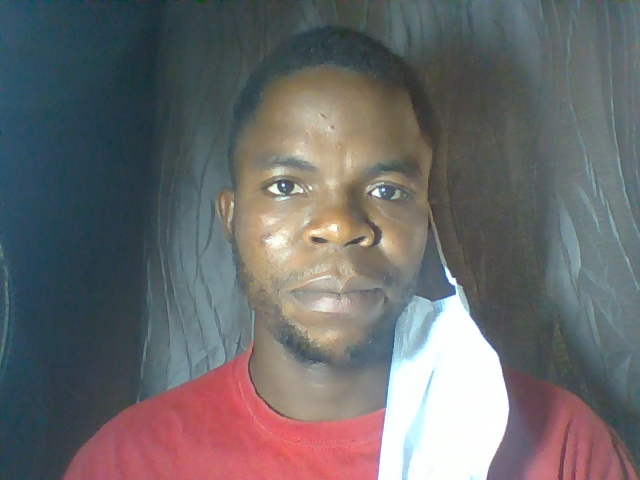MaskOff: (210, 21, 517, 409)
